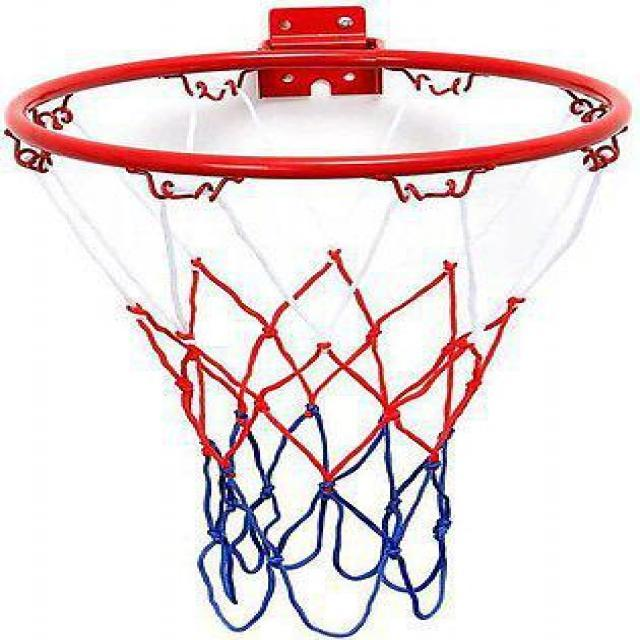hoop: (6, 49, 632, 637)
